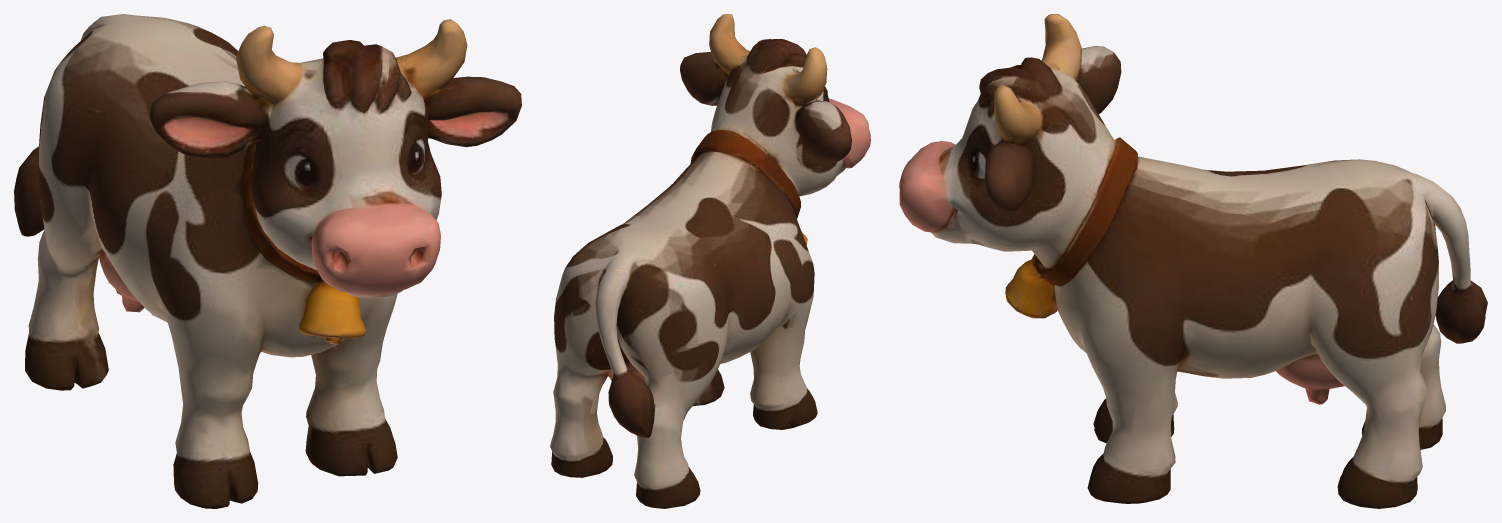
Rendered from cow.glb.
3 renders of one model, left to right at view 1: azimuth 30°, elevation 25°; view 2: azimuth 150°, elevation 25°; view 3: azimuth 270°, elevation 25°, orthographic. The views are drawn at different scales.
Visible parts, largest first — view 1: textured_mesh.obj; view 2: textured_mesh.obj; view 3: textured_mesh.obj.
Boxes of the visible parts, box(x1,y1,x2,y2) form: textured_mesh.obj: box(14, 14, 521, 508); textured_mesh.obj: box(550, 14, 870, 508); textured_mesh.obj: box(899, 14, 1487, 508).
Size of what is drawn, in the model's own units: 0.8704 by 1.35 by 1.71.
1 material, 1 textured.
